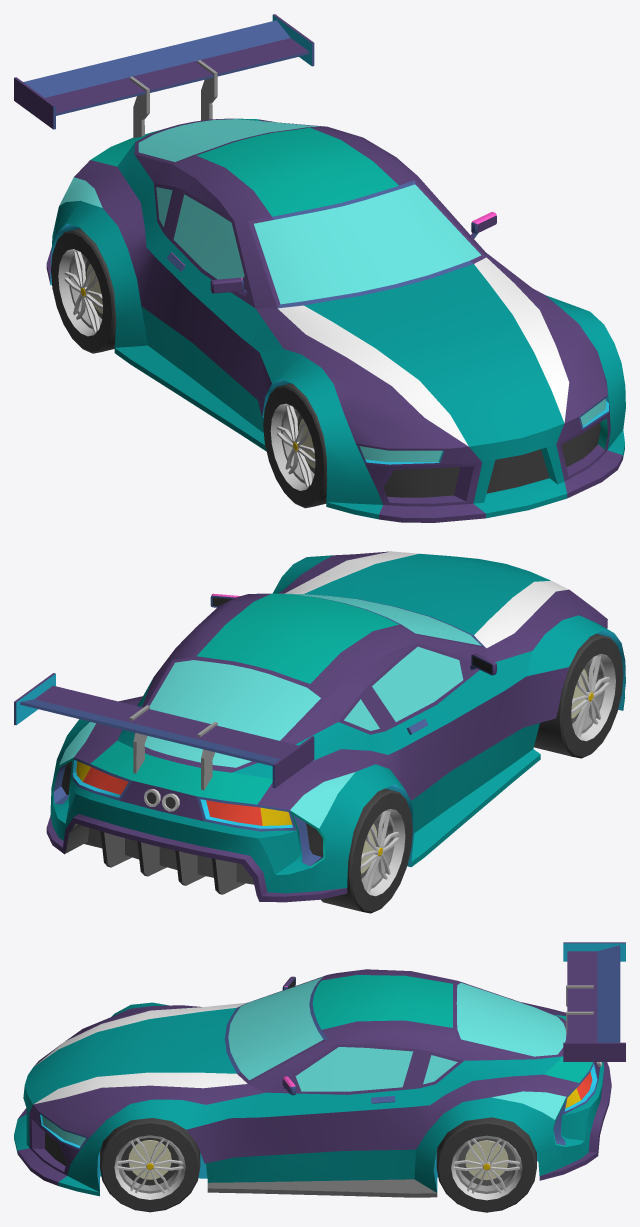
The model's file is Phaethon.fbx.
The picture shows the model from 3 angles, top to bottom: view 1: azimuth 30°, elevation 25°; view 2: azimuth 150°, elevation 25°; view 3: azimuth 270°, elevation 25°; orthographic projection. The views are drawn at different scales.
Parts seen in each view (by area): view 1: Body, Spoiler, RearRightWheel, RightLeftWheel; view 2: Body, Spoiler, RightLeftWheel, RearRightWheel; view 3: Body, RearLeftWheel, FrontLeftWheel, Spoiler.
Part boxes in pixels (x1=…): Body: x1=46, y1=118, x2=625, y2=522; Spoiler: x1=14, y1=14, x2=314, y2=138; RearRightWheel: x1=51, y1=228, x2=116, y2=353; RightLeftWheel: x1=263, y1=383, x2=327, y2=508; Body: x1=46, y1=551, x2=625, y2=902; Spoiler: x1=14, y1=673, x2=314, y2=790; RightLeftWheel: x1=534, y1=634, x2=623, y2=758; RearRightWheel: x1=321, y1=788, x2=412, y2=913; Body: x1=14, y1=969, x2=611, y2=1197; RearLeftWheel: x1=436, y1=1117, x2=536, y2=1212; FrontLeftWheel: x1=100, y1=1118, x2=200, y2=1212; Spoiler: x1=563, y1=942, x2=625, y2=1061.
Bounding box in the file's own units: 211 × 136 × 466.
